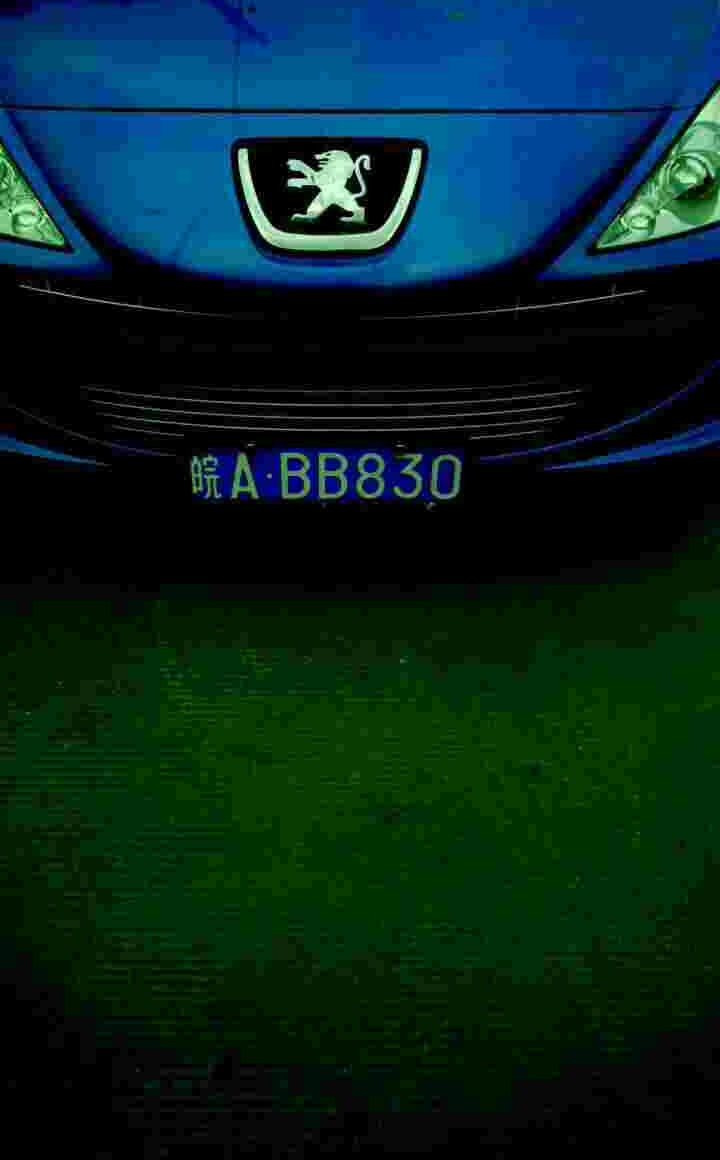plate: (183, 436, 476, 517)
